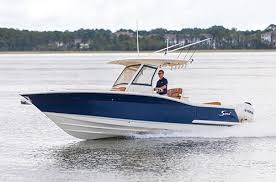boat: (20, 63, 254, 143)
